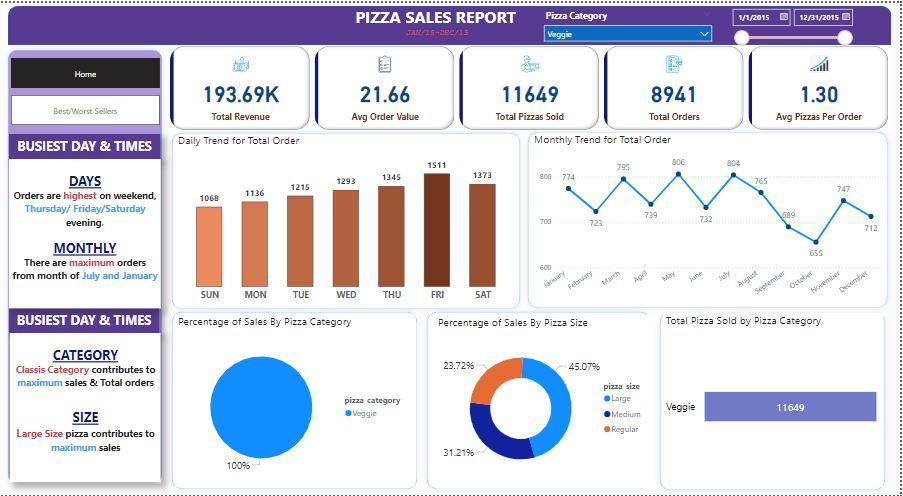

Layout of this report page (visuals, bound fields, positions):
{"tool":"powerbi","page":{"name":"Home","canvas":[1500,820],"ordinal":0},"visuals":[{"type":"cardVisual","fields":{"Data":["pizza_sales.Total Revenue","pizza_sales.Avg Order Value","pizza_sales.Total Pizzas Sold","pizza_sales.Total Orders","pizza_sales.Avg Pizzas Per Order"]},"box":[278.3,66.7,1208.3,150],"z":0},{"type":"shape","box":[14,4.7,1472.1,65.1],"z":1000},{"type":"textbox","box":[579.1,0,295.3,46.5],"z":2000},{"type":"textbox","box":[664.3,35.7,124.3,34.3],"z":3000},{"type":"shape","box":[278.3,208.3,596.7,310],"z":4000},{"type":"clusteredColumnChart","title":"Daily Trend for Total Order","fields":{"Category":["pizza_sales.Order Day"],"Y":["pizza_sales.Total Orders"]},"box":[291.7,216.7,571.7,290],"z":5000},{"type":"shape","box":[871.4,207.1,615.7,310],"z":6000},{"type":"lineChart","title":"Monthly Trend for Total Order","fields":{"Category":["pizza_sales.Month Name"],"Y":["pizza_sales.Total Orders"]},"box":[884.3,214.3,590,292.9],"z":7000},{"type":"shape","box":[278.3,506.7,425,311.7],"z":8000},{"type":"pieChart","title":"Percentage of Sales By Pizza Category","fields":{"Category":["pizza_sales.pizza_category"],"Y":["pizza_sales.Total Revenue"]},"box":[291.7,518.3,396.7,288.3],"z":9000},{"type":"shape","box":[1091.4,508.6,391.4,311.4],"z":10000},{"type":"shape","box":[702.9,507.1,388.6,311.4],"z":11000},{"type":"donutChart","title":"Percentage of Sales By Pizza Size","fields":{"Category":["pizza_sales.pizza_size"],"Y":["pizza_sales.Total Orders"]},"box":[725.7,520,365.7,288.6],"z":12000},{"type":"funnel","title":"Total Pizza Sold by Pizza Category","fields":{"Category":["pizza_sales.pizza_category"],"Y":["pizza_sales.Total Pizzas Sold"]},"box":[1104.3,517.1,365.7,288.6],"z":13000},{"type":"shape","box":[5,70,273.3,738.3],"z":14000},{"type":"textbox","box":[15,218.3,251.7,41.7],"z":15000},{"type":"textbox","box":[15,508.3,250,41.7],"z":16000},{"type":"textbox","box":[15.7,260,252.9,248.6],"z":17000},{"type":"textbox","box":[17.1,550,251.4,248.6],"z":18000},{"type":"slicer","fields":{"Values":["pizza_sales.pizza_category"]},"box":[897.1,4.3,300,65.7],"z":19000},{"type":"slicer","fields":{"Values":["pizza_sales.order_date"]},"box":[1208.6,0,221.4,80],"z":20000},{"type":"pageNavigator","box":[17.5,91.2,248.8,50],"z":21000},{"type":"pageNavigator","box":[17.5,152.5,248.8,50],"z":22000}]}

Visuals, with their boxes in screenshot pixels (x1, y1, x2, y2), scaled from the page's 1500x820 canvas onto the 903x496 screenshot:
cardVisual - pizza_sales.Total Revenue x pizza_sales.Avg Order Value: box(168, 40, 895, 131)
shape: box(8, 3, 895, 42)
textbox: box(349, 0, 526, 28)
textbox: box(400, 22, 475, 42)
shape: box(168, 126, 527, 314)
"Daily Trend for Total Order" clusteredColumnChart: box(176, 131, 520, 306)
shape: box(525, 125, 895, 313)
"Monthly Trend for Total Order" lineChart: box(532, 130, 888, 307)
shape: box(168, 306, 423, 495)
"Percentage of Sales By Pizza Category" pieChart: box(176, 314, 414, 488)
shape: box(657, 308, 893, 495)
shape: box(423, 307, 657, 495)
"Percentage of Sales By Pizza Size" donutChart: box(437, 315, 657, 489)
"Total Pizza Sold by Pizza Category" funnel: box(665, 313, 885, 487)
shape: box(3, 42, 168, 489)
textbox: box(9, 132, 161, 157)
textbox: box(9, 307, 160, 333)
textbox: box(9, 157, 162, 308)
textbox: box(10, 333, 162, 483)
slicer - pizza_sales.pizza_category: box(540, 3, 721, 42)
slicer - pizza_sales.order_date: box(728, 0, 861, 48)
pageNavigator: box(11, 55, 160, 85)
pageNavigator: box(11, 92, 160, 122)
